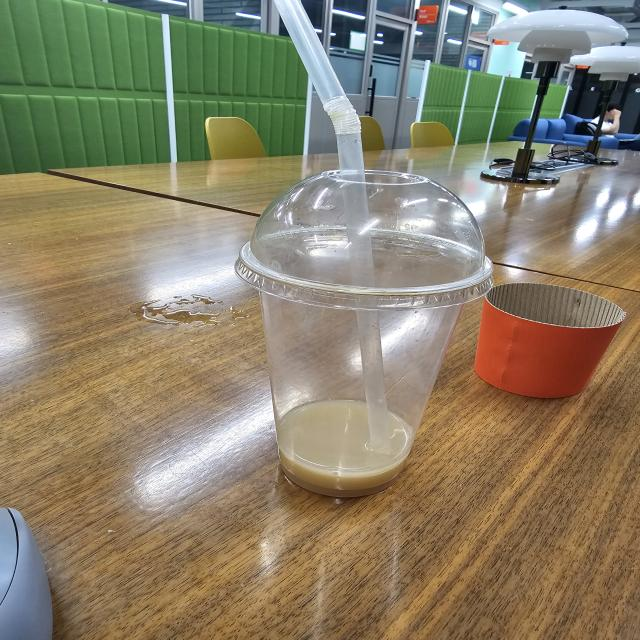cup: (238, 166, 488, 505)
